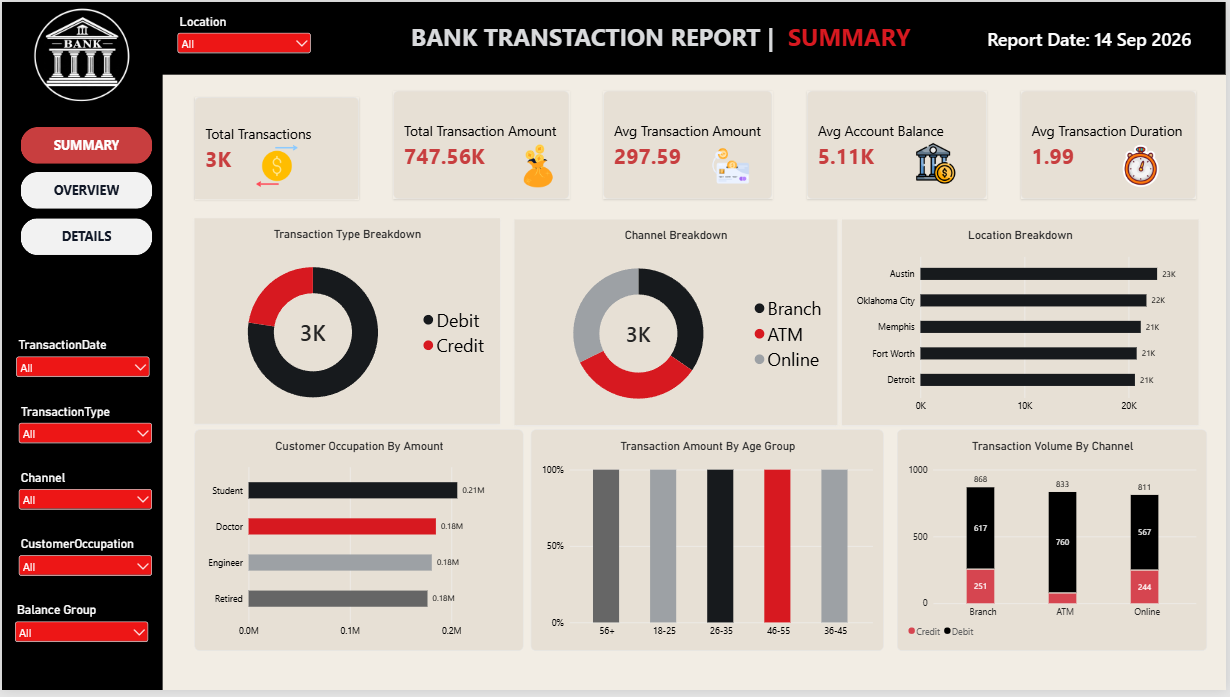

The dashboard page shown, as its layout file describes it:
{"tool":"powerbi","page":{"name":"Summary","canvas":[1920,1080],"ordinal":0},"visuals":[{"type":"cardVisual","fields":{"Data":["Measures (2).Total Transactions"]},"box":[302.2,148.4,258.8,161.1],"z":0},{"type":"cardVisual","fields":{"Data":["Measures (2).Total Transaction Amount"]},"box":[614.1,139.3,276.7,170.2],"z":1000},{"type":"cardVisual","fields":{"Data":["Measures (2).Avg Transaction Amount"]},"box":[943.9,139.3,265.5,170.2],"z":2000},{"type":"cardVisual","fields":{"Data":["Measures (2).Avg Account Balance"]},"box":[1262.5,139.3,282.4,170.2],"z":3000},{"type":"cardVisual","fields":{"Data":["Measures (2).Avg Transaction Duration"]},"box":[1597.9,139.3,275.1,170.1],"z":4000},{"type":"donutChart","title":"Transaction Type Breakdown","fields":{"Category":["Bank_Transactions.TransactionType"],"Y":["Measures (2).Total Transactions"]},"box":[302.2,338.4,479.6,322.1],"z":5000},{"type":"donutChart","title":"Channel Breakdown","fields":{"Category":["Bank_Transactions.Channel"],"Y":["Measures (2).Total Transactions"]},"box":[803.5,340.2,506.7,322.1],"z":6000},{"type":"clusteredBarChart","title":"Location Breakdown","fields":{"Category":["Bank_Transactions.Location"],"Y":["Measures (2).Total Transaction Amount"]},"box":[1317.4,340.2,559.2,322.1],"z":7000},{"type":"barChart","title":"Customer Occupation By Amount","fields":{"Category":["Bank_Transactions.CustomerOccupation"],"Y":["Measures (2).Total Transaction Amount"]},"box":[302.2,671.4,515.8,347.5],"z":8000},{"type":"hundredPercentStackedColumnChart","title":"Transaction Amount By Age Group","fields":{"Category":["Bank_Transactions.Age Group"],"Y":["Measures (2).Total Transaction Amount"]},"box":[828.8,671.4,553.8,347.5],"z":9000},{"type":"ribbonChart","title":"Transaction Volume By Channel ","fields":{"Category":["Bank_Transactions.Channel"],"Series":["Bank_Transactions.TransactionType"],"Y":["Measures (2).Total Transactions"]},"box":[1404.3,671.4,486.8,347.5],"z":10000},{"type":"shape","box":[0,0,252,1080.4],"z":11000},{"type":"shape","box":[251.5,0,1668.5,114],"z":12000},{"type":"textbox","box":[561,29,944.6,56.1],"z":13000},{"type":"image","box":[7.2,9,237.1,150.2],"z":14000},{"type":"slicer","fields":{"Values":["Bank_Transactions.TransactionType"]},"box":[21.7,630.7,219,81.4],"z":19000},{"type":"slicer","fields":{"Values":["Bank_Transactions.Channel"]},"box":[21.7,734.7,219,81.4],"z":20000},{"type":"slicer","fields":{"Values":["Bank_Transactions.CustomerOccupation"]},"box":[21.7,838.8,219,81.4],"z":21000},{"type":"slicer","fields":{"Values":["Bank_Transactions.Balance Group"]},"box":[16.3,942.8,219,76],"z":22000},{"type":"slicer","fields":{"Values":["Bank_Transactions.Location"]},"box":[269.6,19.9,219,76],"z":23000},{"type":"slicer","fields":{"Values":["Bank_Transactions.TransactionDate"]},"box":[18.1,526.6,219,81.4],"z":24007},{"type":"actionButton","box":[29,195.4,206.3,57.9],"z":24008},{"type":"actionButton","box":[29,266,206.3,57.9],"z":24009},{"type":"actionButton","box":[29,338.4,206.3,57.9],"z":24010},{"type":"image","box":[394.5,224.4,74.2,67],"z":24011},{"type":"image","box":[803.5,224.4,74.2,67],"z":24012},{"type":"image","box":[1105.7,224.4,74.2,67],"z":24013},{"type":"image","box":[1427.8,219,74.2,67],"z":24014},{"type":"image","box":[1748.1,224.4,74.2,67],"z":24015},{"type":"cardVisual","fields":{"Data":["Measures (2).Report Date"]},"box":[1529.2,9,361.9,95.9],"z":24016}]}

Visuals, with their boxes in screenshot pixels (x1, y1, x2, y2), scaled from the page's 1920x1080 canvas onto the 1230x697 screenshot:
cardVisual - Measures (2).Total Transactions: 194/96/359/200
cardVisual - Measures (2).Total Transaction Amount: 393/90/571/200
cardVisual - Measures (2).Avg Transaction Amount: 605/90/775/200
cardVisual - Measures (2).Avg Account Balance: 809/90/990/200
cardVisual - Measures (2).Avg Transaction Duration: 1024/90/1200/200
"Transaction Type Breakdown" donutChart: 194/218/501/426
"Channel Breakdown" donutChart: 515/220/839/427
"Location Breakdown" clusteredBarChart: 844/220/1202/427
"Customer Occupation By Amount" barChart: 194/433/524/658
"Transaction Amount By Age Group" hundredPercentStackedColumnChart: 531/433/886/658
"Transaction Volume By Channel " ribbonChart: 900/433/1211/658
shape: 0/0/161/696
shape: 161/0/1229/74
textbox: 359/19/965/55
image: 5/6/157/103
slicer - Bank_Transactions.TransactionType: 14/407/154/460
slicer - Bank_Transactions.Channel: 14/474/154/527
slicer - Bank_Transactions.CustomerOccupation: 14/541/154/594
slicer - Bank_Transactions.Balance Group: 10/608/151/658
slicer - Bank_Transactions.Location: 173/13/313/62
slicer - Bank_Transactions.TransactionDate: 12/340/152/392
actionButton: 19/126/151/163
actionButton: 19/172/151/209
actionButton: 19/218/151/256
image: 253/145/300/188
image: 515/145/562/188
image: 708/145/756/188
image: 915/141/962/185
image: 1120/145/1167/188
cardVisual - Measures (2).Report Date: 980/6/1211/68
